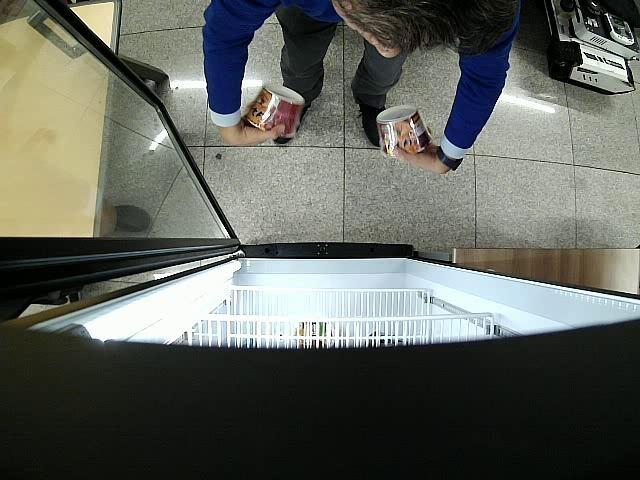05_nuguri_L: (244, 84, 304, 139), (377, 105, 432, 158)
